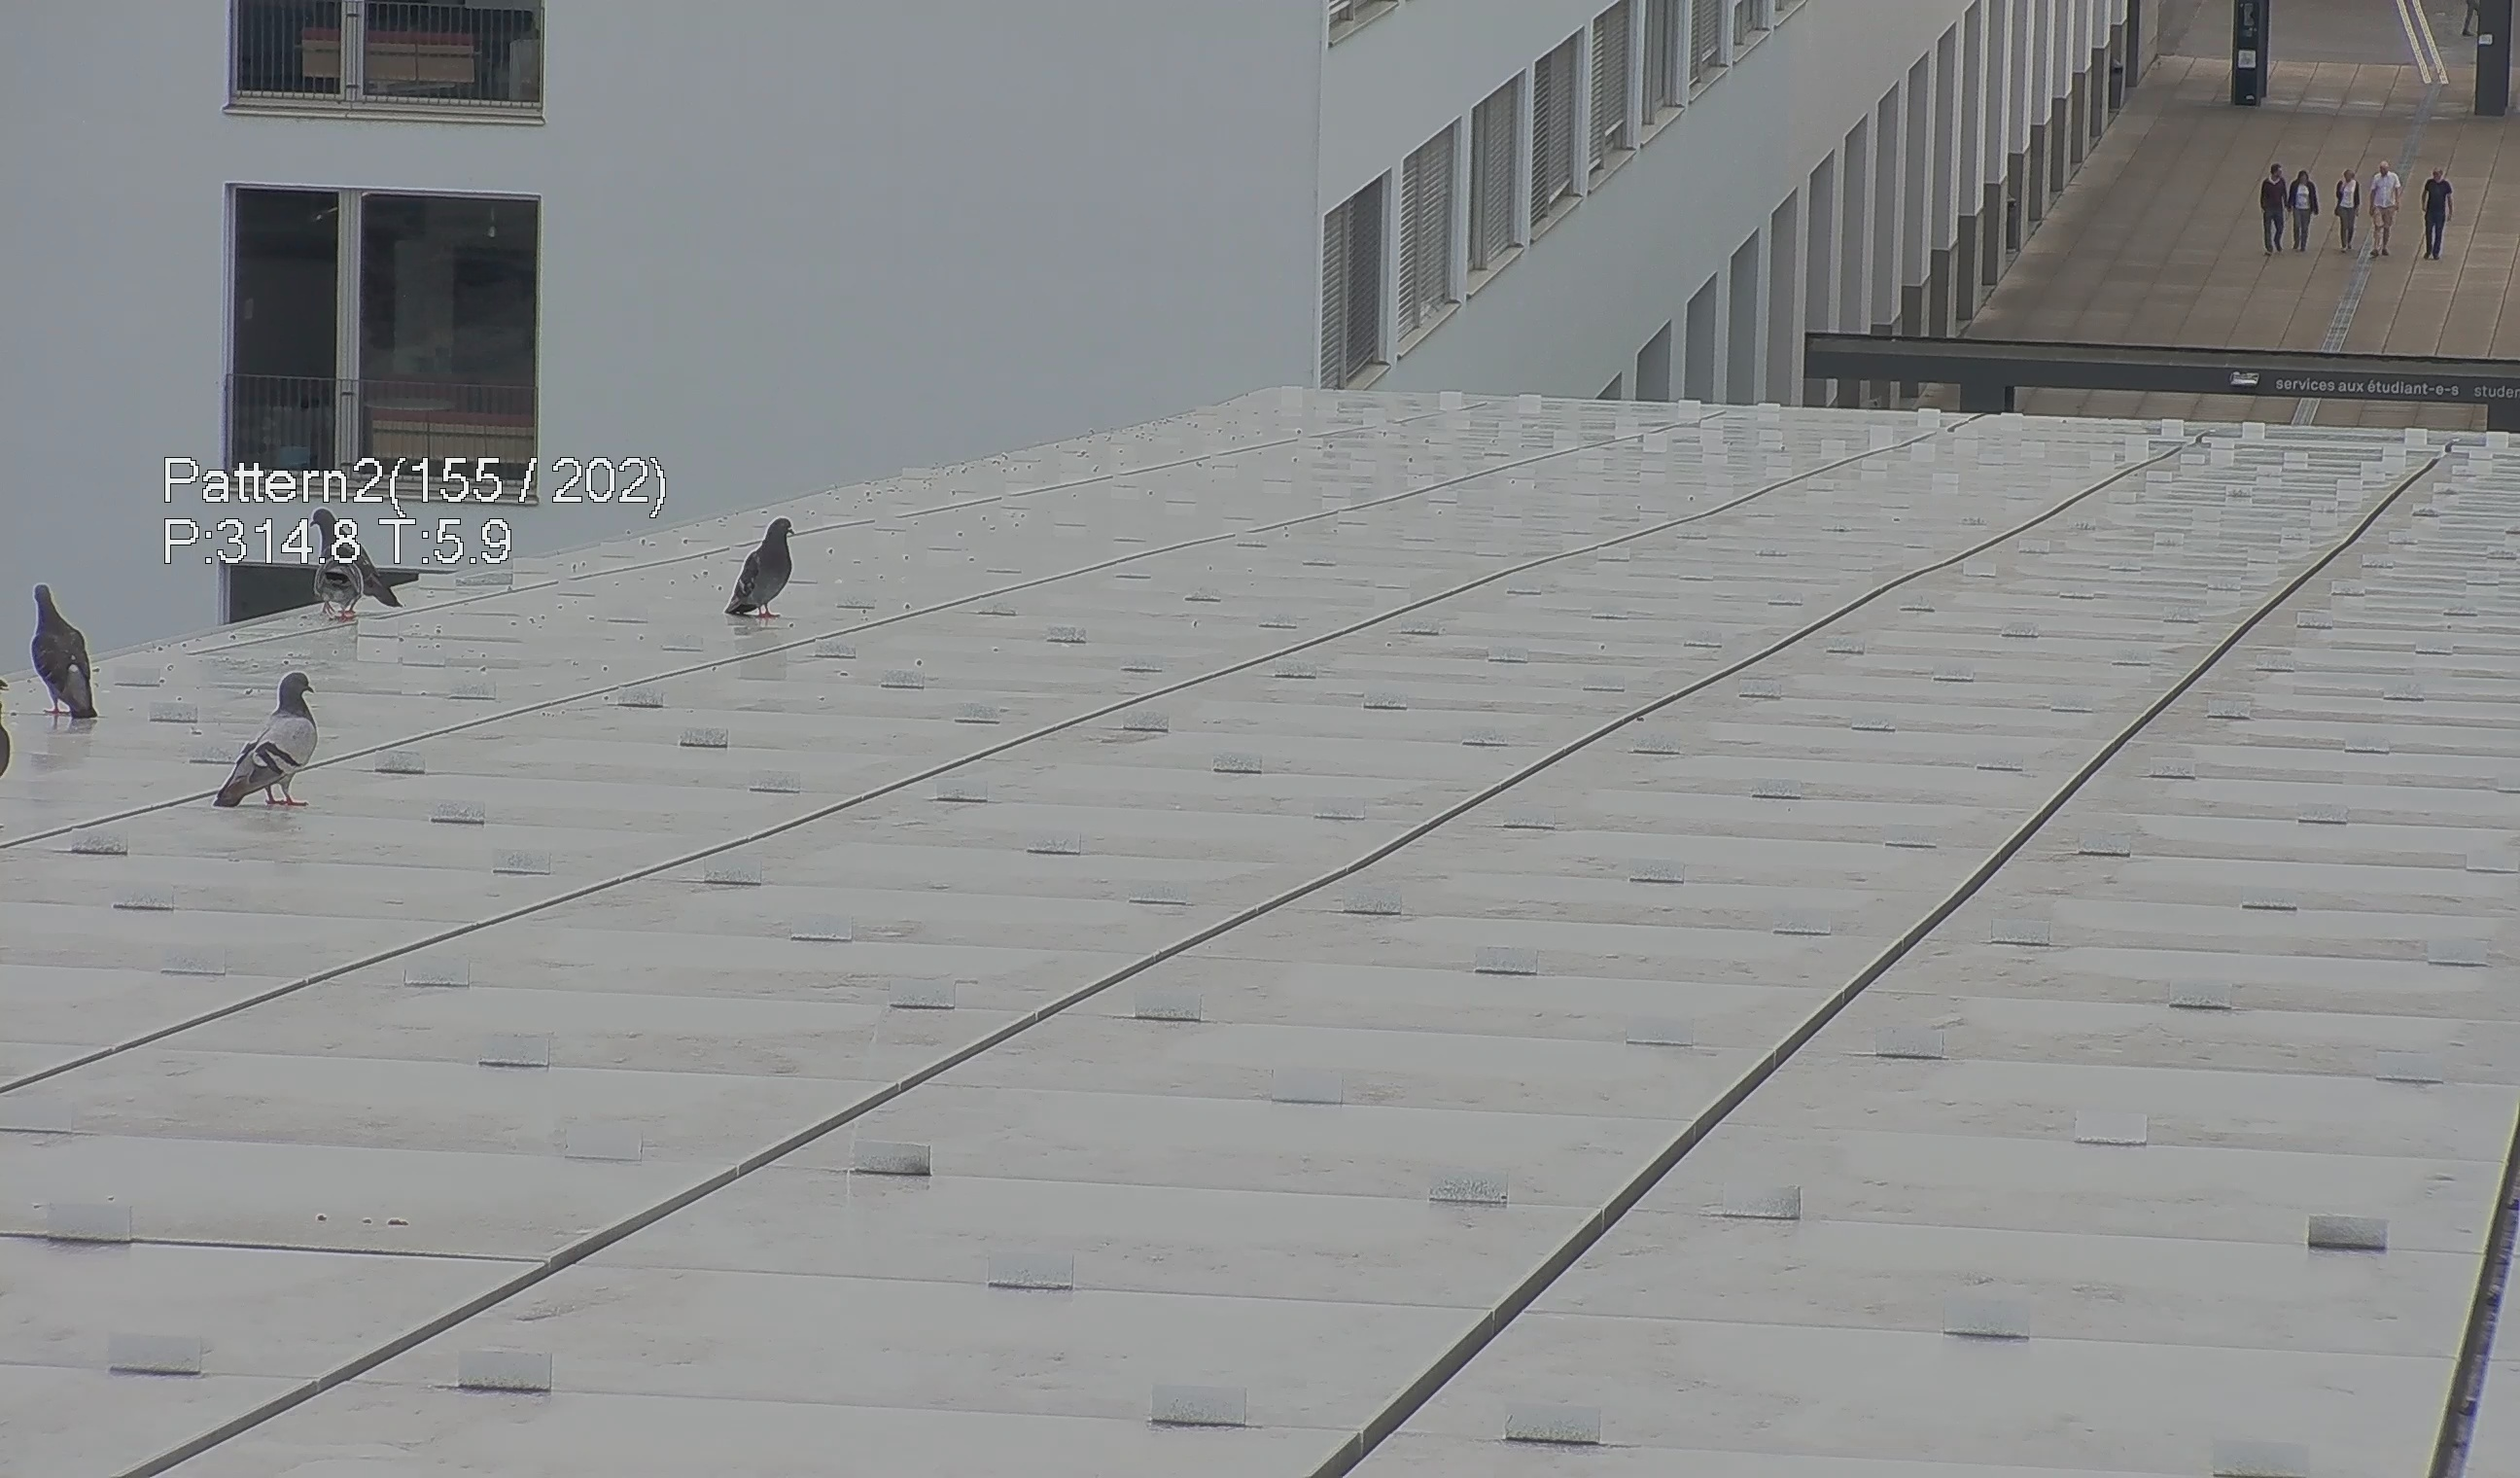Pigeon: (213, 663, 336, 822), (25, 577, 123, 734), (313, 505, 406, 630), (709, 503, 797, 623), (302, 544, 378, 625)
